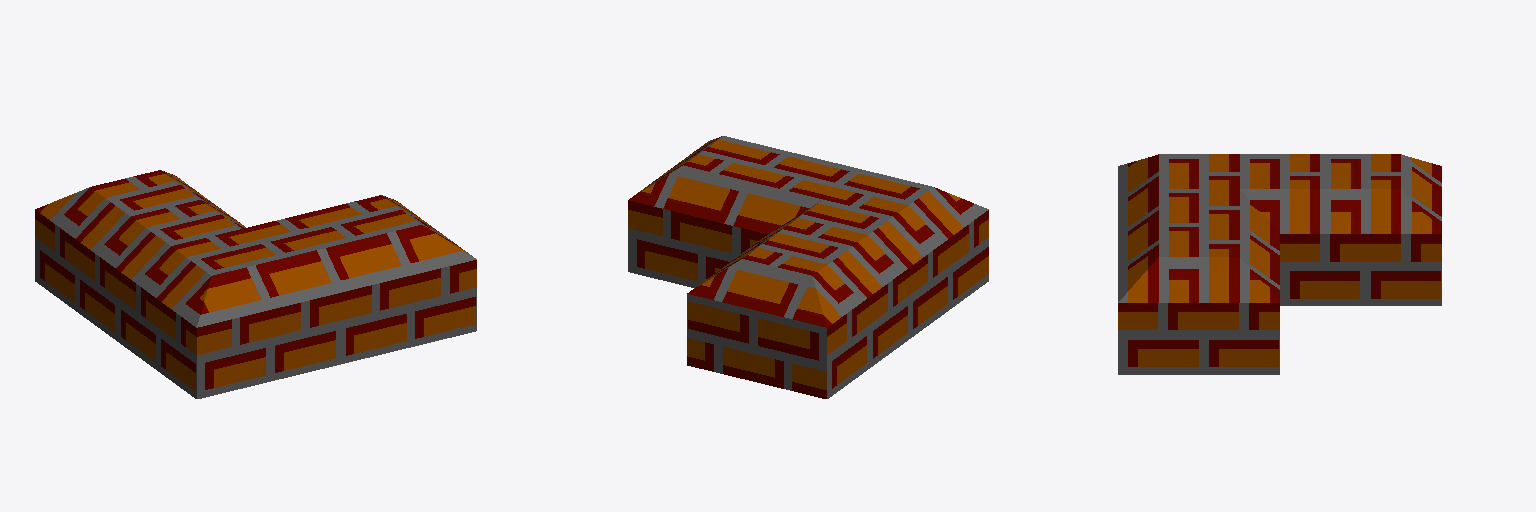
3 renders of one model, left to right at view 1: azimuth 30°, elevation 25°; view 2: azimuth 150°, elevation 25°; view 3: azimuth 270°, elevation 25°, orthographic.
Parts seen in each view (by area): view 1: Muros1; view 2: Muros1; view 3: Muros1.
Boxes of the visible parts, x1,y1,x2,y2 form: Muros1: [35, 170, 476, 398]; Muros1: [628, 136, 988, 398]; Muros1: [1118, 154, 1441, 374].
Bounding box in the file's own units: 0.1278 × 0.0438 × 0.1278.
Materials: 1 (1 with a texture image).